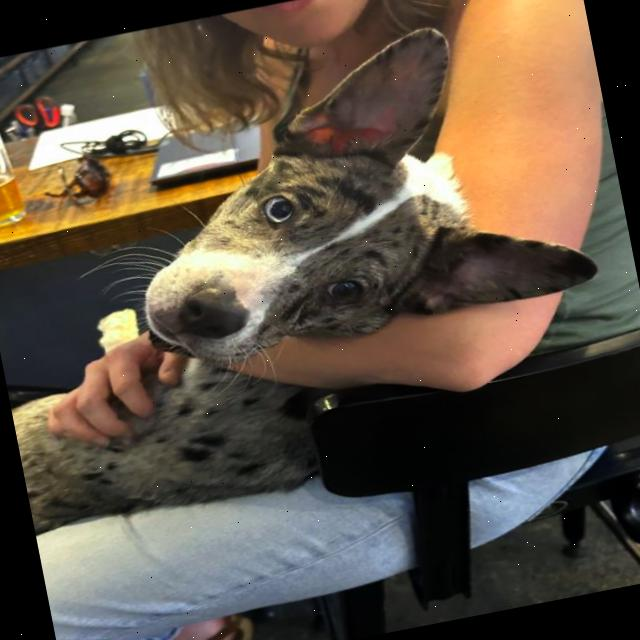corgi_dog: (63, 0, 615, 399)
